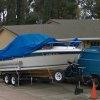Boat: (0, 30, 83, 88)
